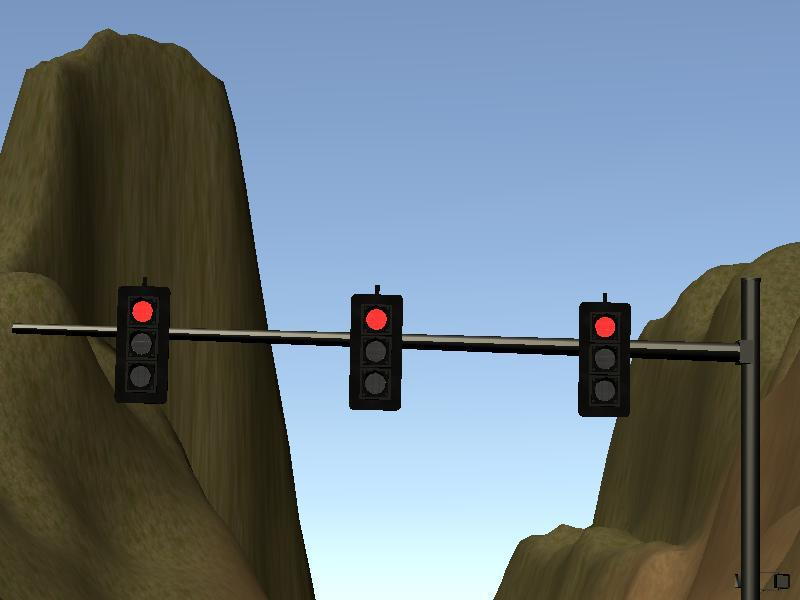Red: (353, 295, 400, 406), (119, 288, 165, 396), (582, 306, 628, 414)
